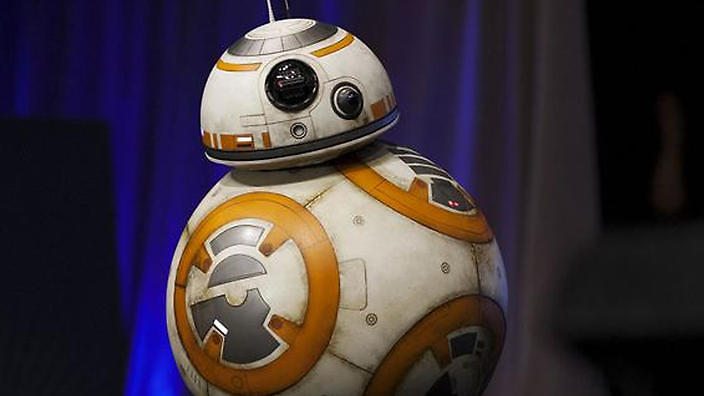bb8: (164, 18, 509, 396)
